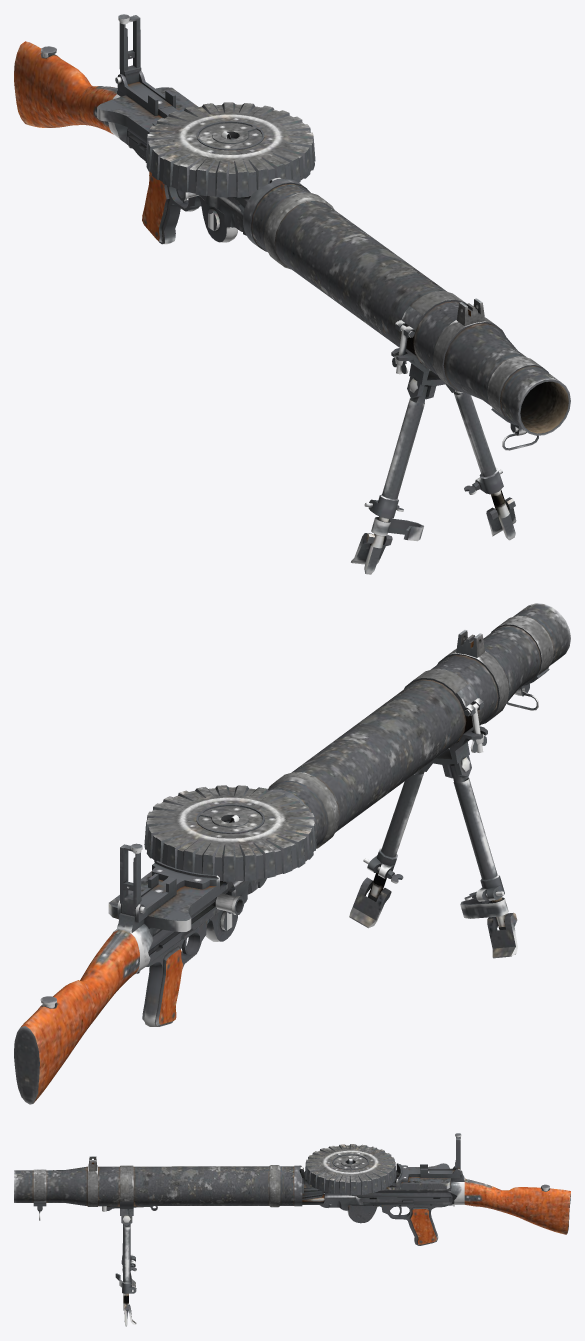
File: lewis.glb
The picture shows the model from 3 angles, top to bottom: view 1: azimuth 30°, elevation 25°; view 2: azimuth 150°, elevation 25°; view 3: azimuth 270°, elevation 25°; orthographic projection. The views are drawn at different scales.
Visible parts, largest first — view 1: MK1, magazine, bipod, aim; view 2: MK1, magazine, bipod, aim; view 3: MK1, magazine, bipod, aim.
Part boxes in pixels (box(x1,y1,x2,y2)): MK1: box(14, 41, 570, 450); magazine: box(145, 102, 315, 197); bipod: box(351, 291, 516, 574); aim: box(115, 14, 175, 115); MK1: box(14, 603, 570, 1104); magazine: box(144, 785, 316, 881); bipod: box(349, 668, 517, 958); aim: box(117, 843, 176, 922); MK1: box(14, 1156, 570, 1245); magazine: box(305, 1144, 396, 1195); bipod: box(115, 1165, 136, 1326); aim: box(420, 1133, 461, 1178).
Size of the model in its own units: 23.89 by 44.21 by 130.
Materials: 1 (1 with a texture image).
